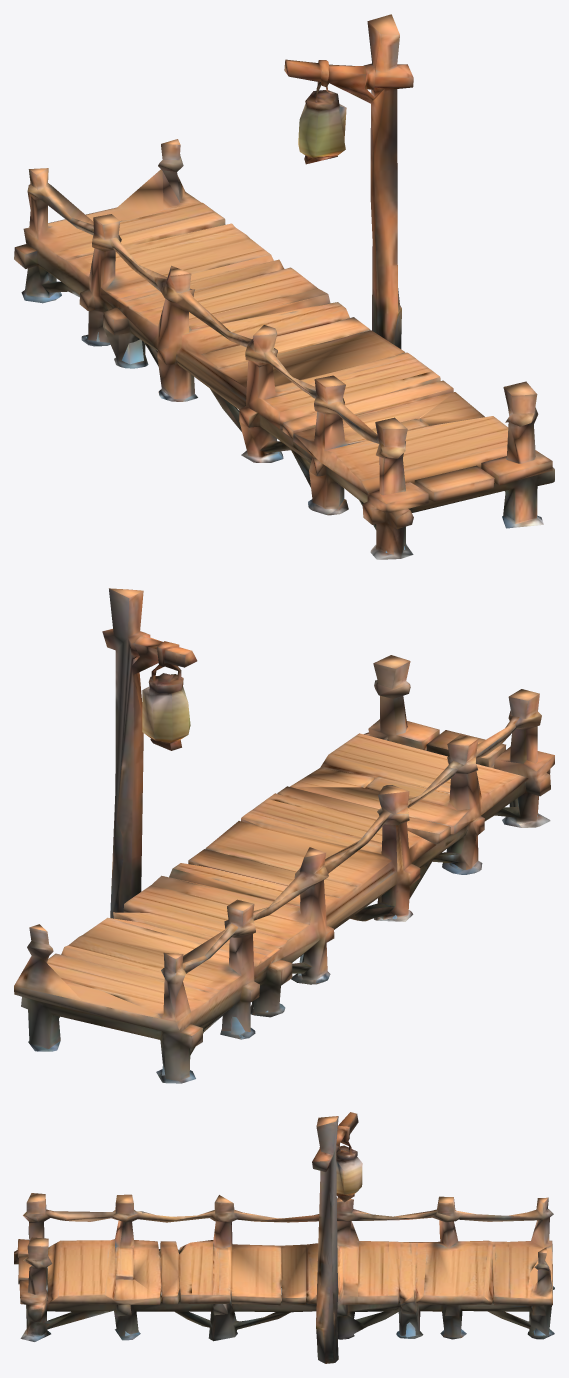
The model's file is zhanqiao.glb.
3 views of the same model, one above another, from view 1: azimuth 30°, elevation 25°; view 2: azimuth 150°, elevation 25°; view 3: azimuth 270°, elevation 25° (orthographic). The views are drawn at different scales.
Parts seen in each view (by area): view 1: node_0; view 2: node_0; view 3: node_0.
Part boxes in pixels (<box>): node_0: <box>14,14,554,559</box>; node_0: <box>14,588,554,1083</box>; node_0: <box>14,1112,554,1363</box>.
Bounding box in the file's own units: 0.3872 × 0.513 × 1.04.
Materials: 1 (1 with a texture image).
